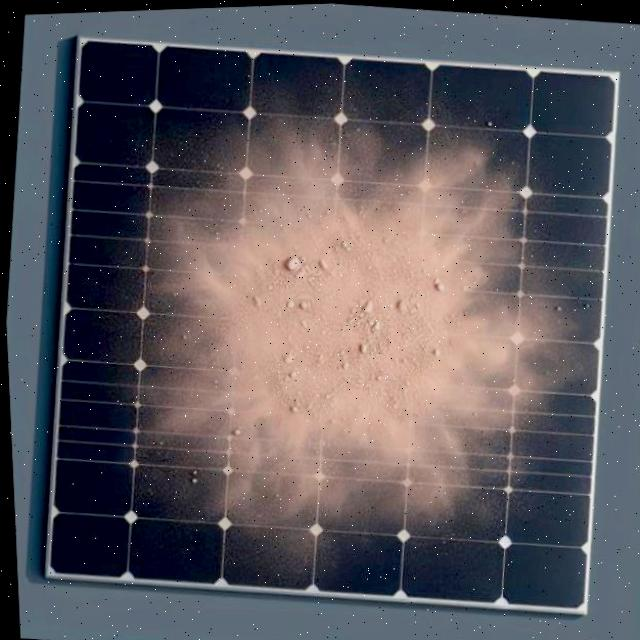Anomaly Solar Panel: (44, 32, 617, 610)
Surface Contaminant: (99, 49, 601, 578)
